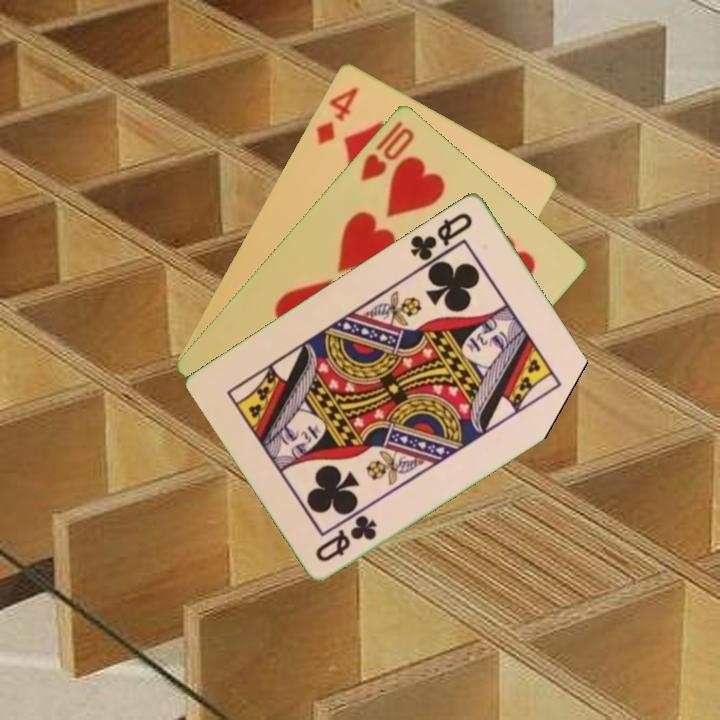10h: (356, 123, 417, 184)
4d: (311, 82, 361, 148)
Qc: (406, 208, 476, 264), (311, 510, 380, 565)
